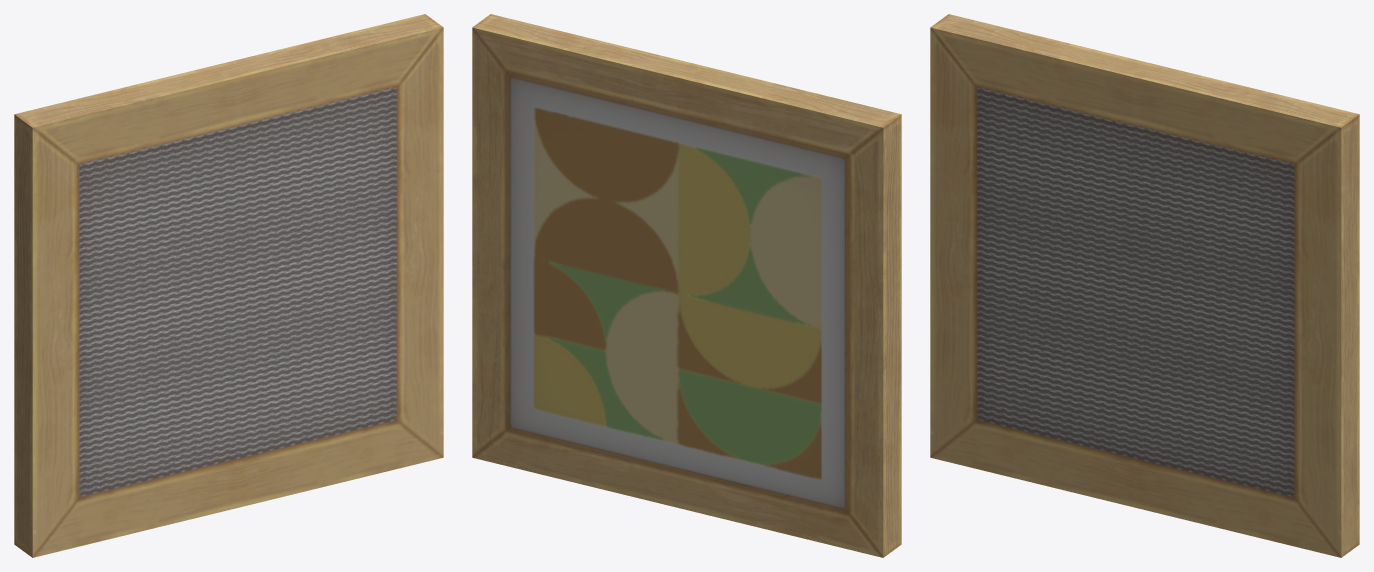
File: P_WallPictures_014_S1_M01.obj
3 renders of one model, left to right at view 1: azimuth 30°, elevation 25°; view 2: azimuth 150°, elevation 25°; view 3: azimuth 330°, elevation 25°, orthographic.
Bounding box in the file's own units: 0.9 × 0.9 × 0.07.
1 material, 1 textured.
